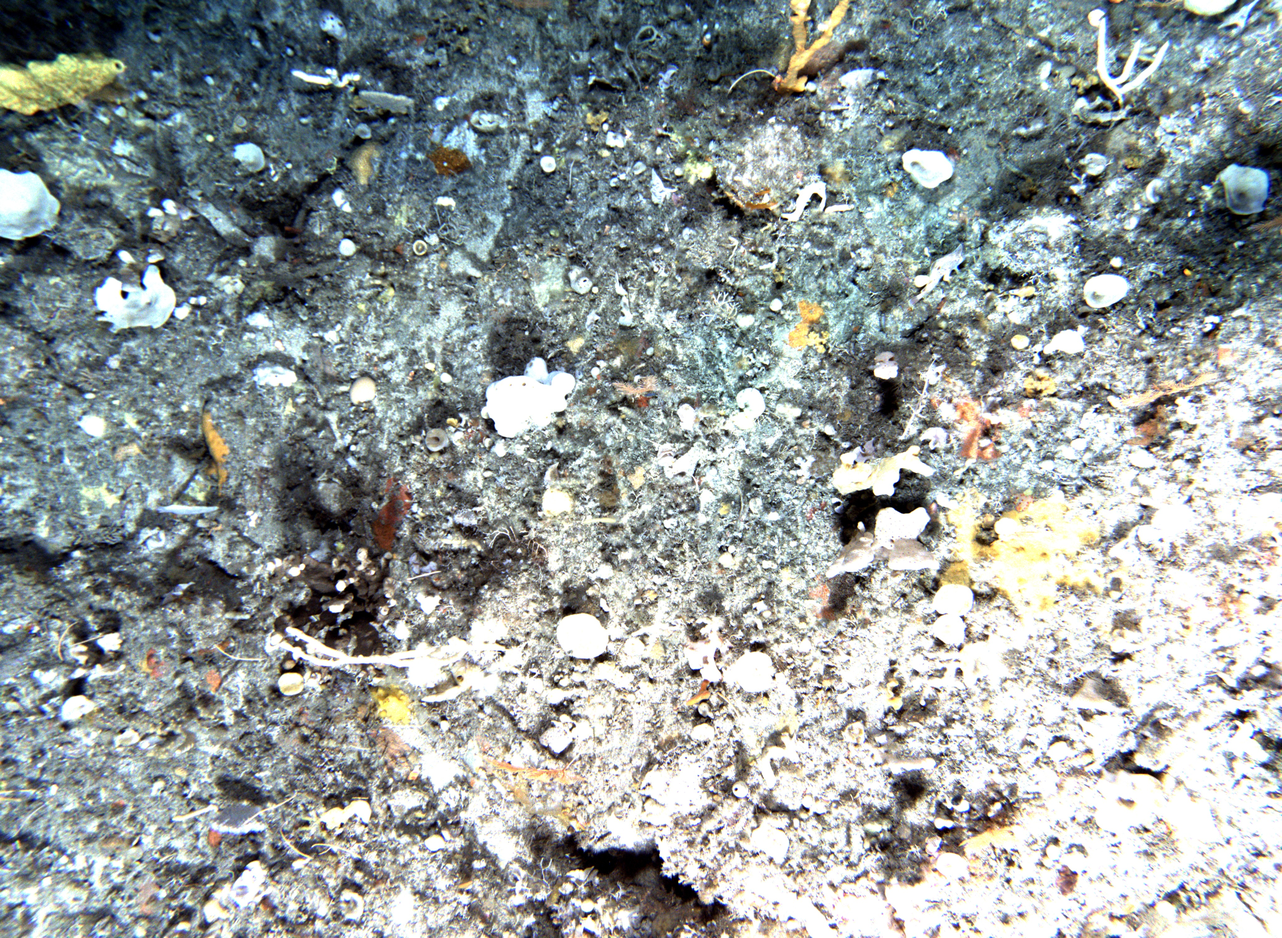Brachionichthyidae: (907, 242, 966, 309)
